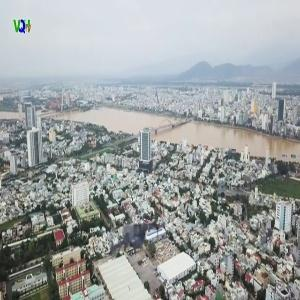drone: (97, 194, 176, 273)
